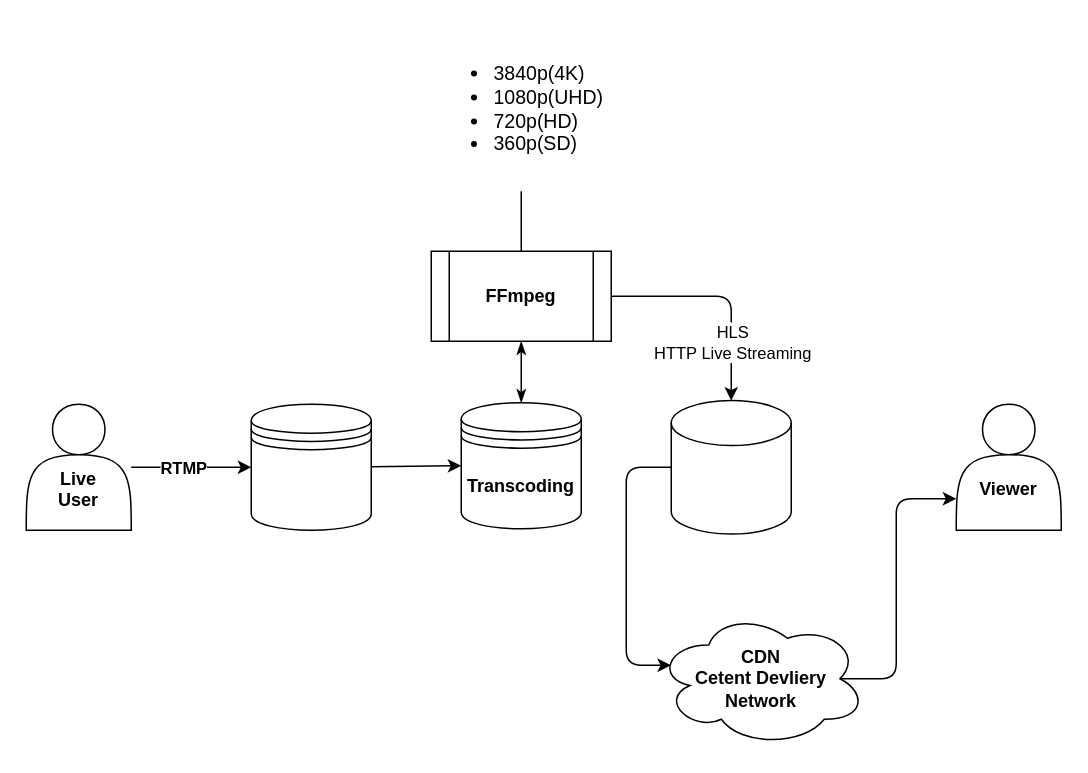
This 1088x773 diagram has some shape labels left out. The centre of each missing label's shape, as x and y in pixels:
Live Server: the point at 310,466
Object Storage: the point at 730,466
